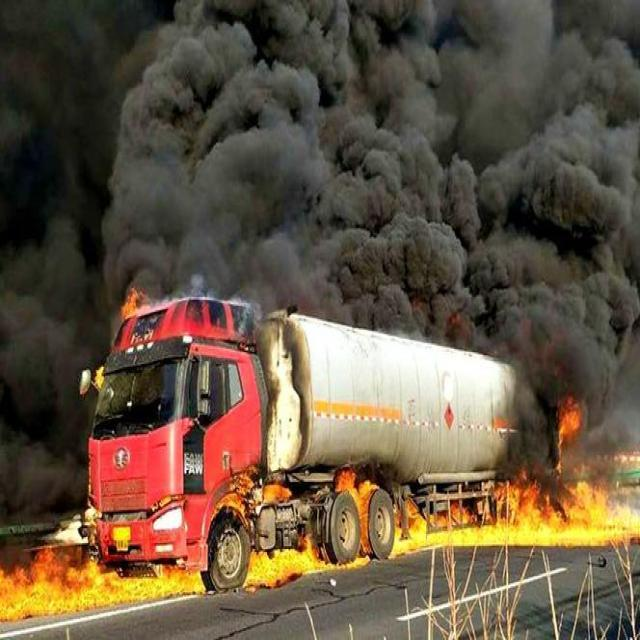Fire: (389, 486, 639, 550), (0, 552, 207, 619), (248, 544, 316, 591), (554, 403, 584, 449), (314, 558, 371, 574)
Smoke: (0, 0, 638, 345), (585, 348, 640, 482), (514, 344, 556, 474)
